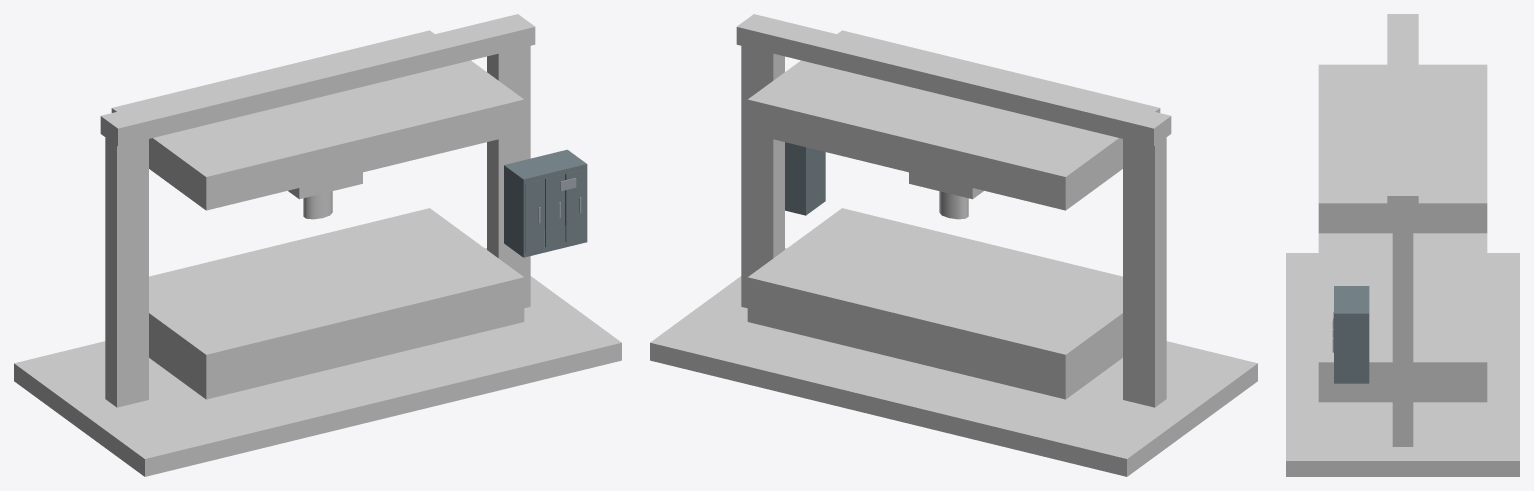
3 renders of one model, left to right at view 1: azimuth 30°, elevation 25°; view 2: azimuth 150°, elevation 25°; view 3: azimuth 270°, elevation 25°, orthographic. The views are drawn at different scales.
Visible parts, largest first — view 1: mould_6, base_frame_1, heater_or_clamp_7, crossbeam_5, column_3, column_4, g0.009, g0.008, g0.007, g0.003, g0.005, air_or_resin_head_8 (+1 smaller); view 2: mould_6, base_frame_1, heater_or_clamp_7, crossbeam_5, column_3, column_4, g0.011, g0.009, air_or_resin_head_8, air_or_resin_tool_9; view 3: base_frame_1, heater_or_clamp_7, mould_6, crossbeam_5, column_4, g0.010, g0.008.
Boxes of the visible parts, x1,y1,x2,y2 form: mould_6: (149,208,524,399); base_frame_1: (14,248,621,476); heater_or_clamp_7: (111,30,524,210); crossbeam_5: (100,14,535,146); column_3: (105,137,148,407); column_4: (487,46,530,308); g0.009: (504,165,525,257); g0.008: (505,150,587,183); g0.007: (525,179,544,252); g0.003: (565,169,585,242); g0.005: (545,174,564,247); air_or_resin_head_8: (288,172,362,199); mould_6: (747,208,1122,399); base_frame_1: (650,248,1257,476); heater_or_clamp_7: (747,30,1160,210); crossbeam_5: (736,14,1171,146); column_3: (1123,137,1166,407); column_4: (741,46,784,308); g0.011: (785,142,805,215); g0.009: (802,147,825,215); air_or_resin_head_8: (909,172,983,199); air_or_resin_tool_9: (939,191,968,219); base_frame_1: (1286,253,1519,476); heater_or_clamp_7: (1318,64,1487,233); mould_6: (1318,233,1487,402); crossbeam_5: (1387,14,1418,211); column_4: (1392,212,1413,446); g0.010: (1334,313,1369,383); g0.008: (1334,286,1369,317).
Bounding box in the file's own units: 4 × 2.4 × 1.9.
